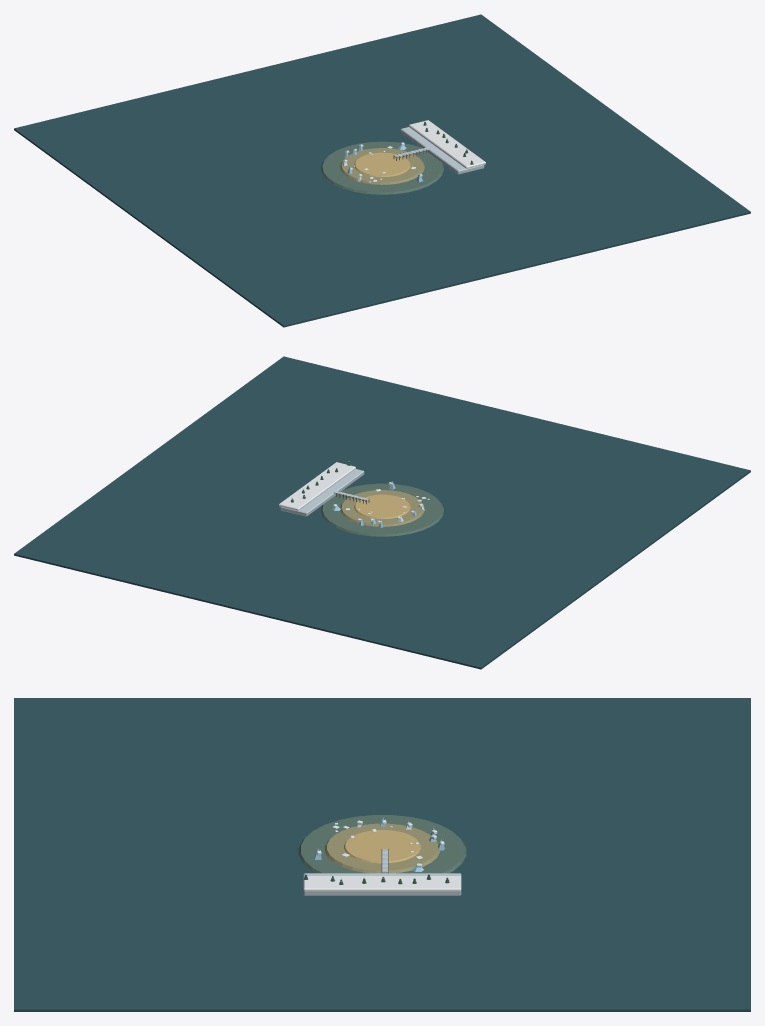
File: surround-rime.glb
The picture shows the model from 3 angles, top to bottom: view 1: azimuth 30°, elevation 25°; view 2: azimuth 150°, elevation 25°; view 3: azimuth 270°, elevation 25°; orthographic projection. The views are drawn at different scales.
Parts seen in each view (by area): view 1: surround-rime; view 2: surround-rime; view 3: surround-rime.
Part boxes in pixels (x1,y1,x2,y2): surround-rime: (14, 14, 750, 327); surround-rime: (14, 356, 750, 669); surround-rime: (14, 698, 750, 1011).
Bounding box in the file's own units: 140 × 5.05 × 140.
